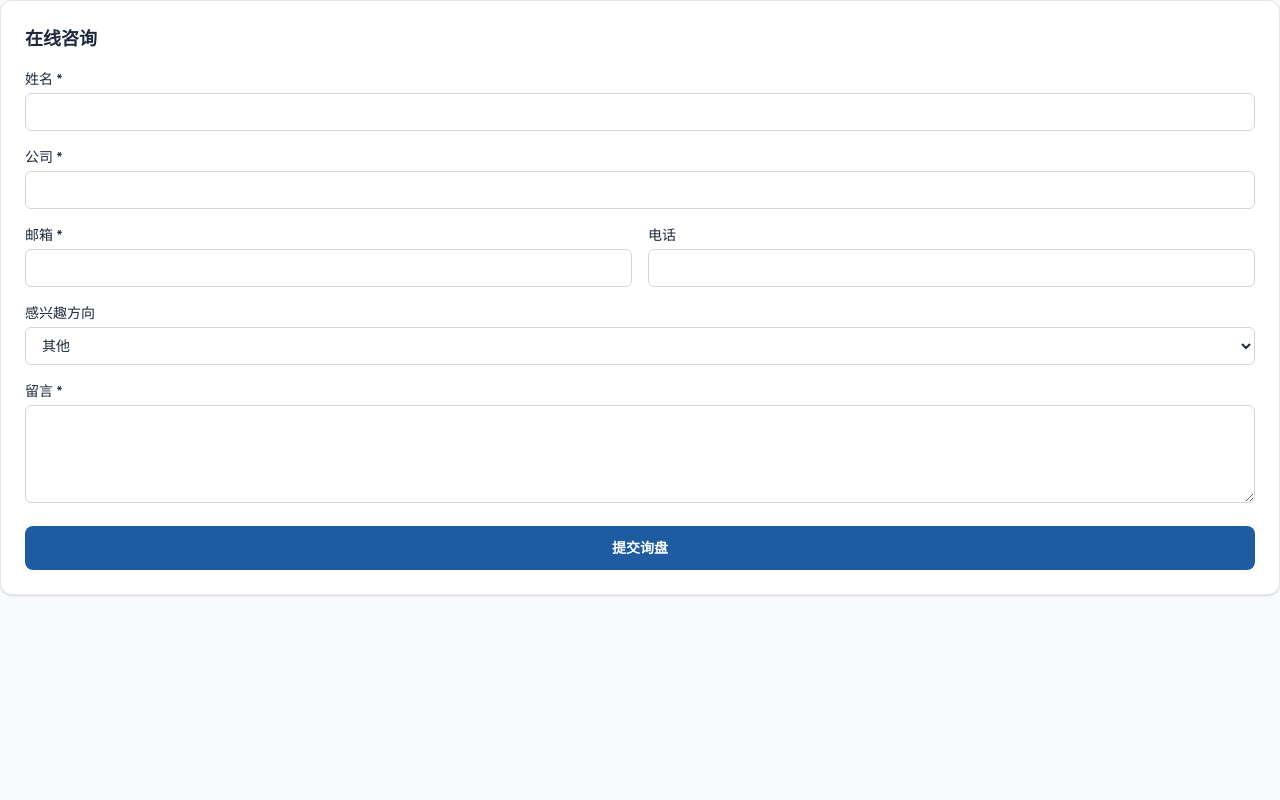
Scenario: InquiryForm › shows success state after successful submission
In the field labelled "姓名 *": [640, 112] box x1=25 y1=93 x2=1255 y2=131, type "张三"
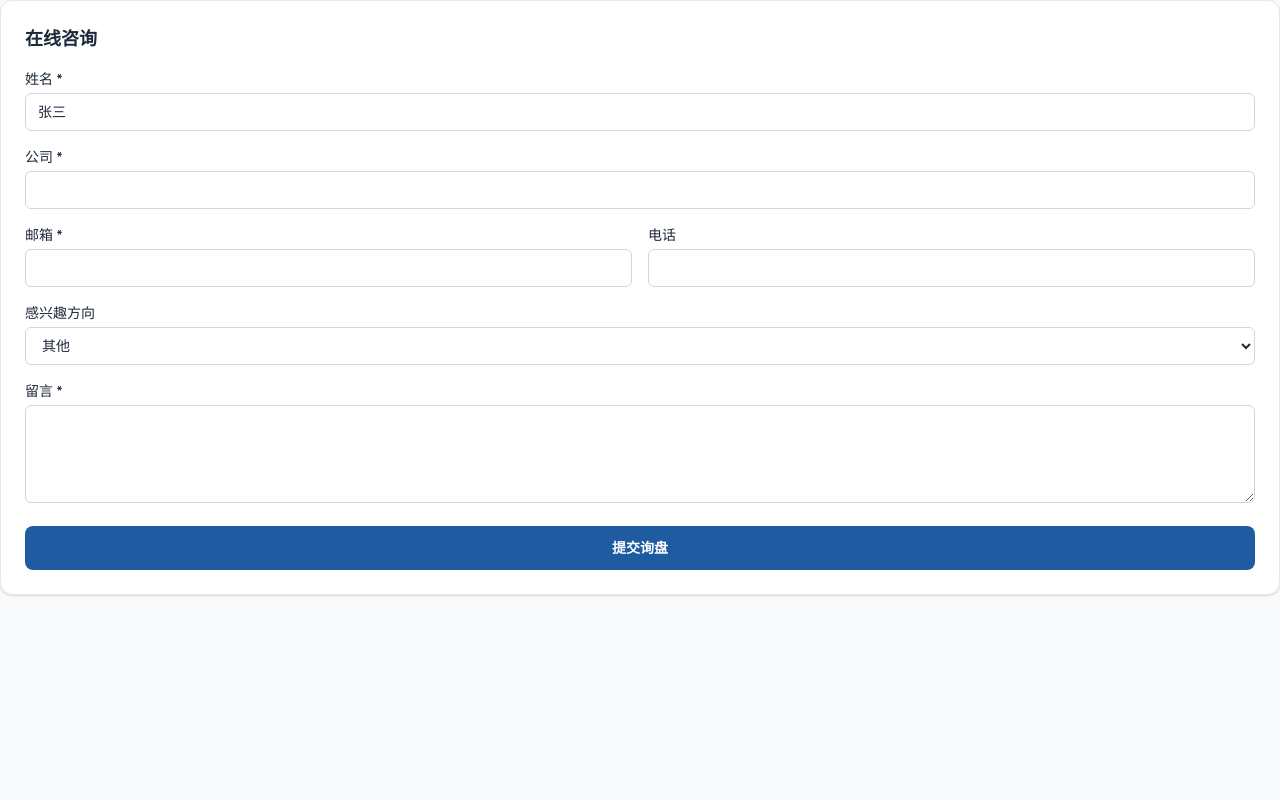
In the field labelled "公司 *": [640, 190] box x1=25 y1=171 x2=1255 y2=209, type "双泓"
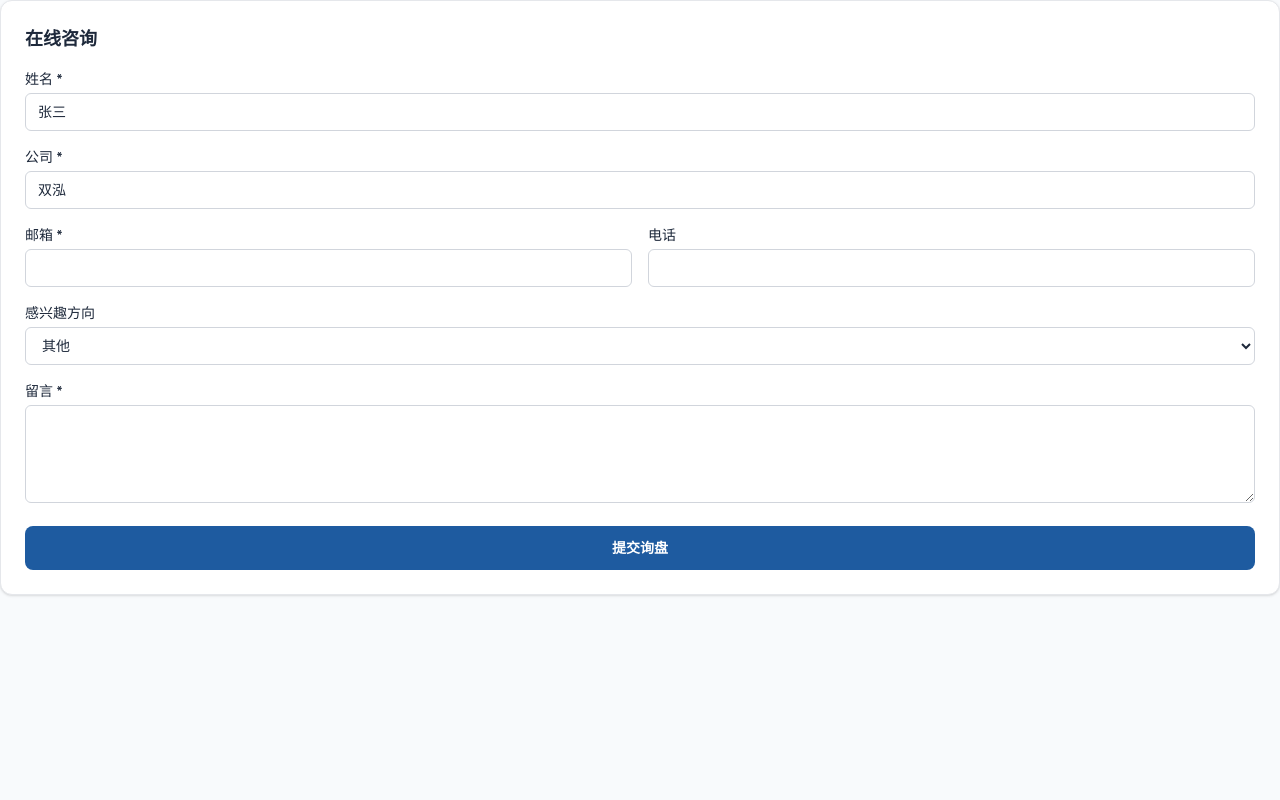
In the field labelled "邮箱 *": [328, 268] box x1=25 y1=249 x2=632 y2=287, type "z@s.com"
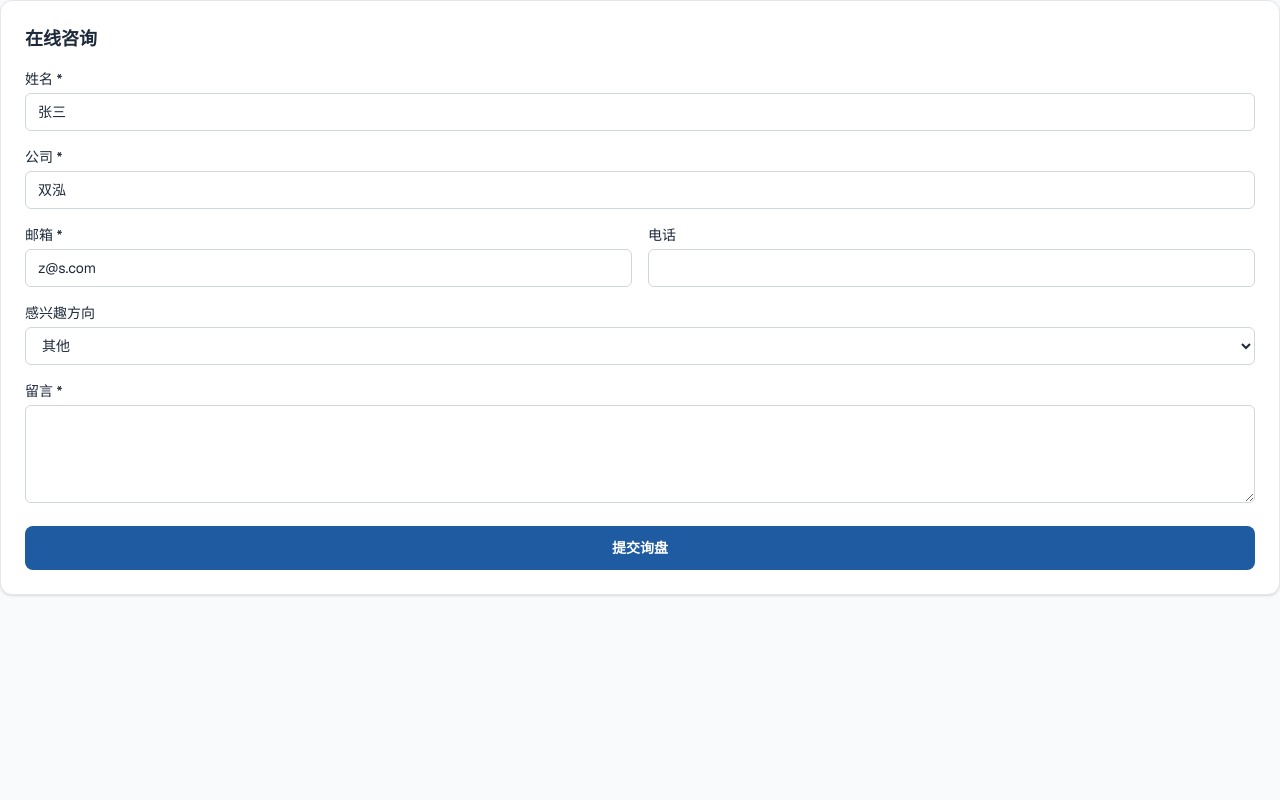
In the text box labelled "留言 *": [640, 454] box x1=25 y1=405 x2=1255 y2=503, type "请联系我"
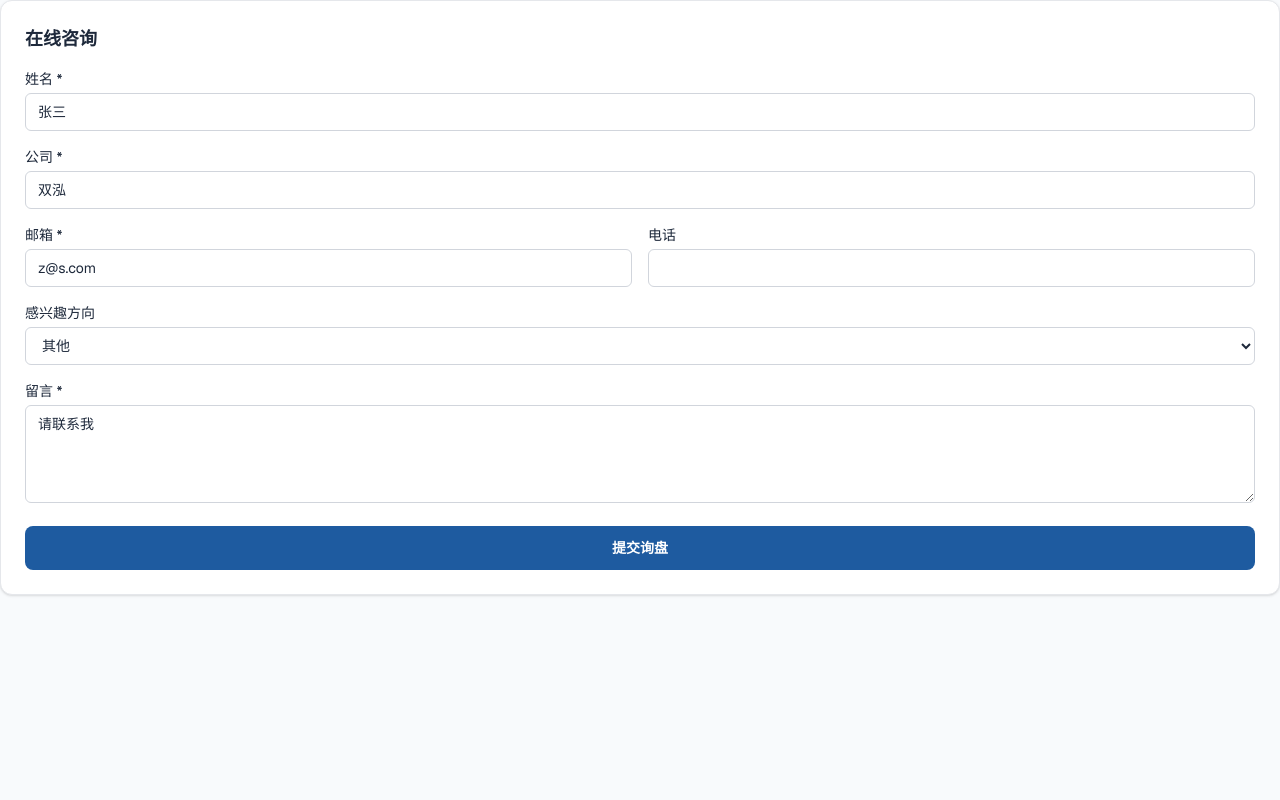
Click the button "提交询盘": [640, 548] box x1=25 y1=526 x2=1255 y2=570
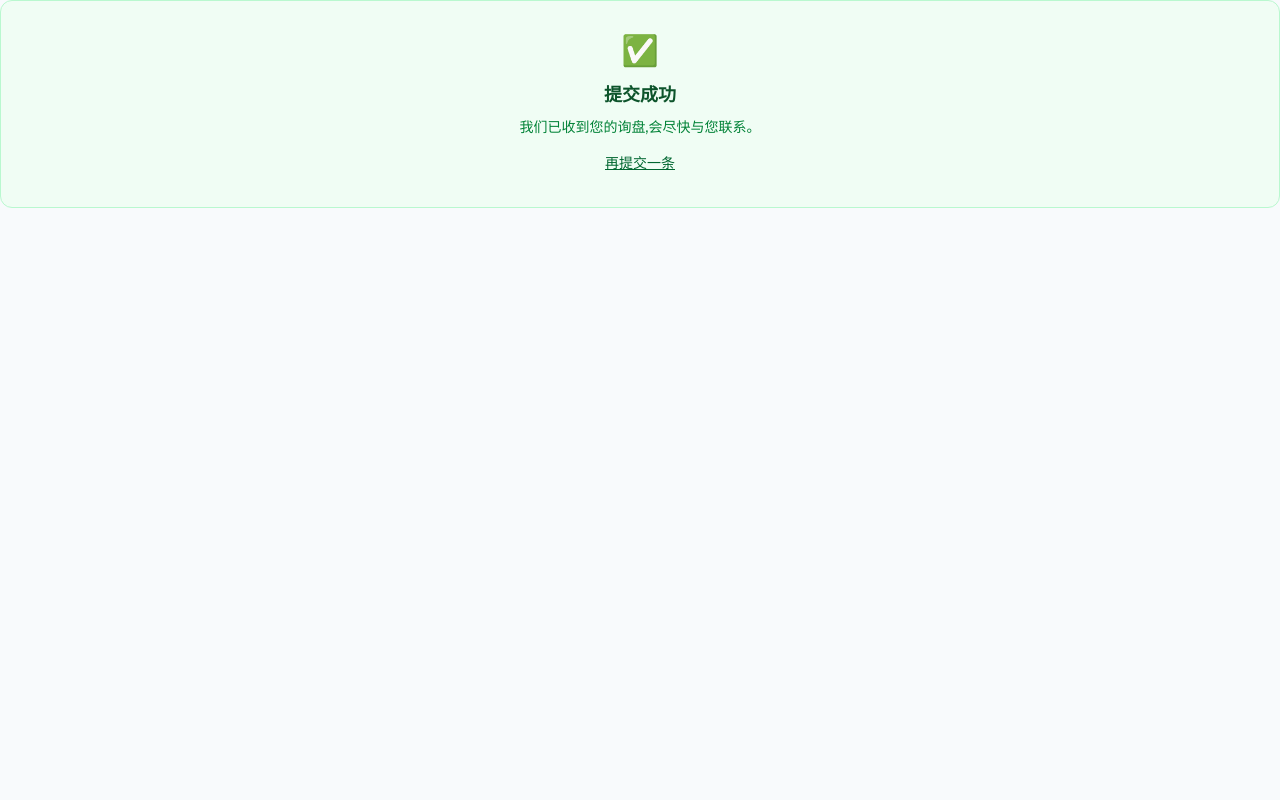
Expected: the heading "提交成功" is shown, x1=604 y1=83 x2=676 y2=106
